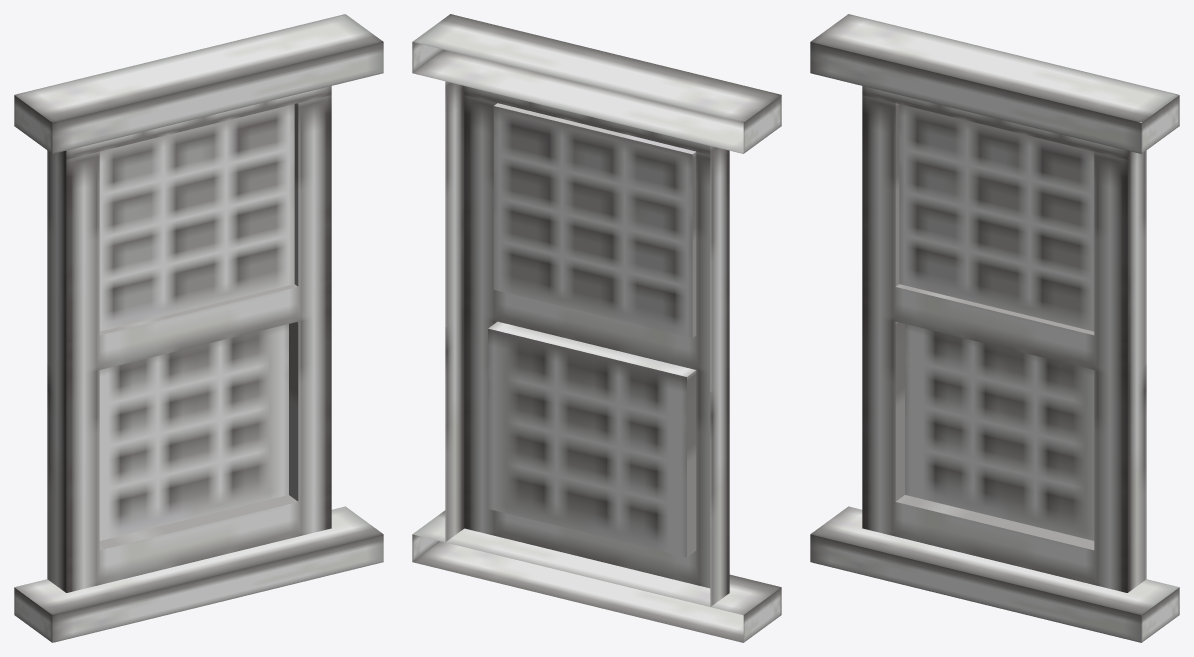
Rendered from Poly_SF_Outside_B_Window_04.obj.
3 renders of one model, left to right at view 1: azimuth 30°, elevation 25°; view 2: azimuth 150°, elevation 25°; view 3: azimuth 330°, elevation 25°, orthographic.
Parts seen in each view (by area): view 1: Cube.001, Cube.002; view 2: Cube.001, Cube.002; view 3: Cube.001, Cube.002.
Boxes of the visible parts, x1,y1,x2,y2 form: Cube.001: [47, 86, 331, 592]; Cube.002: [14, 14, 383, 642]; Cube.001: [445, 81, 729, 606]; Cube.002: [412, 14, 781, 642]; Cube.001: [862, 86, 1146, 592]; Cube.002: [810, 14, 1179, 642].
Bounding box in the file's own units: 1 × 1.5 × 0.2.
1 material, 1 textured.
